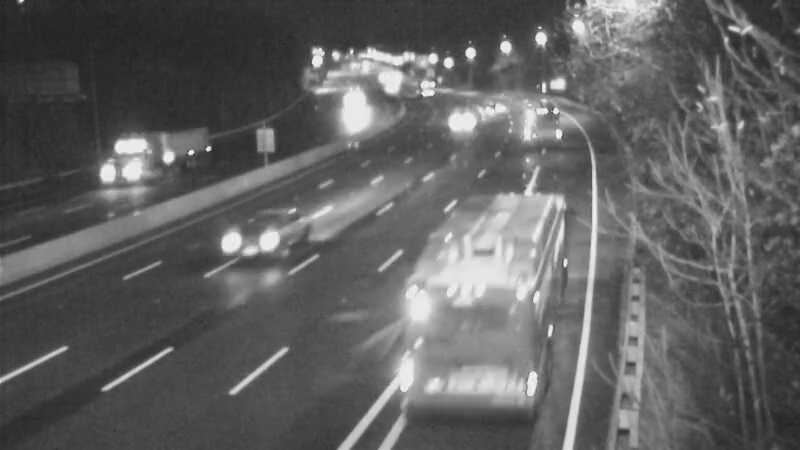vehicle: (414, 263, 524, 373), (216, 197, 296, 277), (94, 120, 174, 200), (405, 68, 455, 118), (507, 90, 557, 140), (470, 80, 520, 130), (441, 94, 491, 144), (331, 78, 381, 128)
